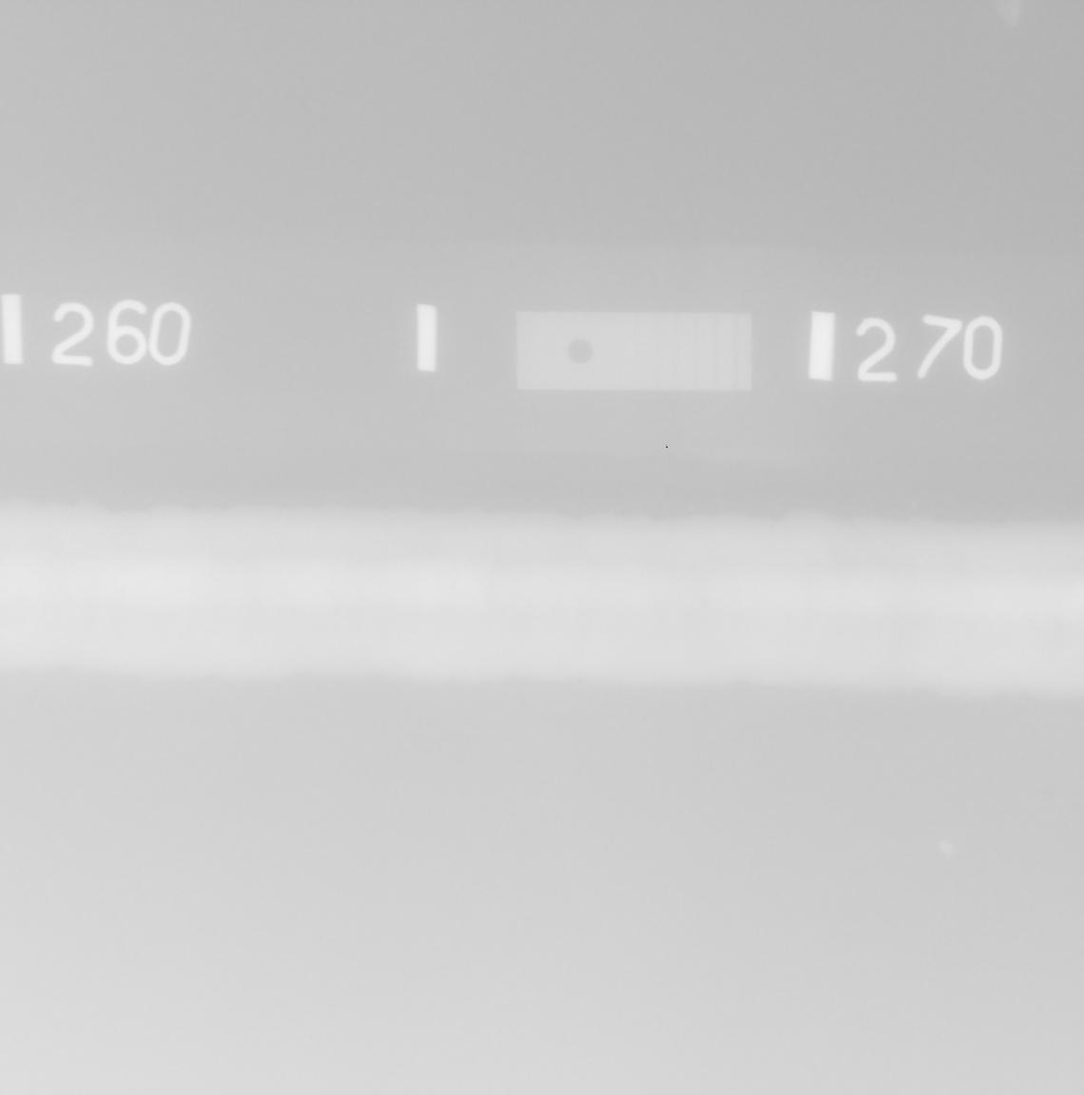Pore/Porosity: (701, 602, 706, 609)
Reference Standard 1: (516, 311, 752, 391)
